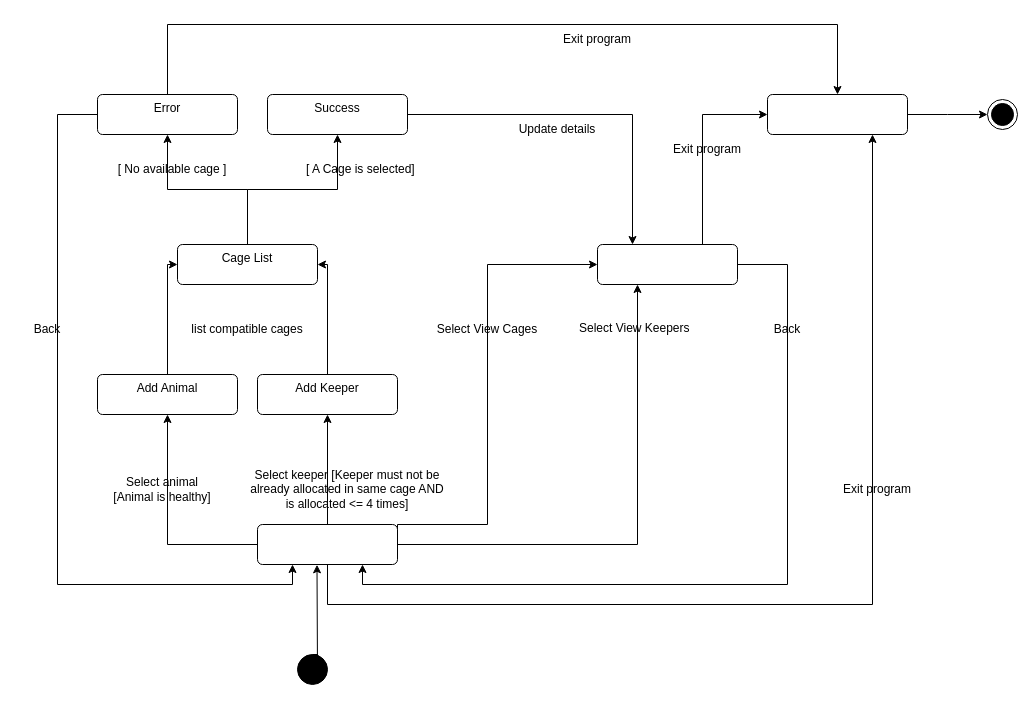
This 1035x702 diagram has some shape labels left out. The centre of each missing label's shape, as x and y in pixels:
"Exit" goes at (x=837, y=114).
"Main Menu" goes at (x=327, y=544).
"Print" goes at (x=667, y=264).
